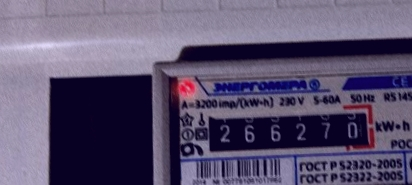0: (344, 118, 359, 138)
2: (217, 121, 231, 142), (294, 120, 308, 140)
6: (242, 121, 255, 142), (268, 121, 282, 140)
7: (320, 119, 331, 138)
screen: (195, 98, 380, 160)
